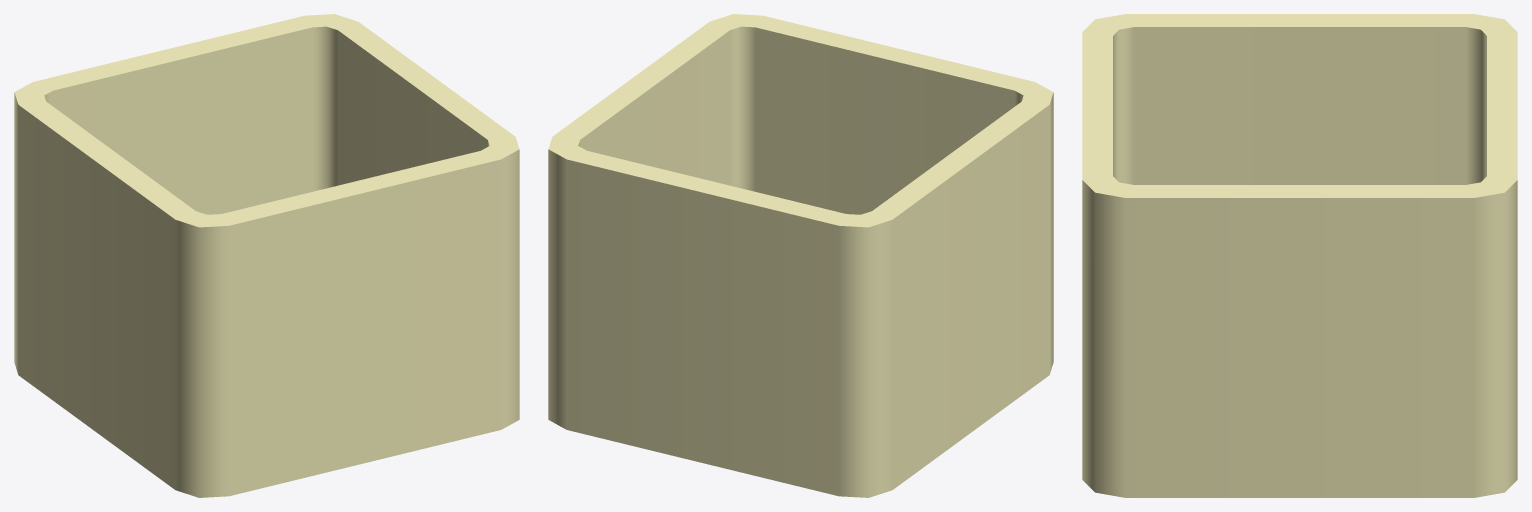
File: soft-cube.glb
3 renders of one model, left to right at view 1: azimuth 30°, elevation 25°; view 2: azimuth 150°, elevation 25°; view 3: azimuth 270°, elevation 25°, orthographic. The views are drawn at different scales.
Visible parts, largest first — view 1: lounge_chair_006; view 2: lounge_chair_006; view 3: lounge_chair_006.
Boxes of the visible parts, x1,y1,x2,y2 form: lounge_chair_006: (14,14,519,497); lounge_chair_006: (548,14,1053,497); lounge_chair_006: (1082,14,1517,497).
Size of the model in its own units: 0.5565 by 0.423 by 0.5565.
Materials: 1 (1 with a texture image).
